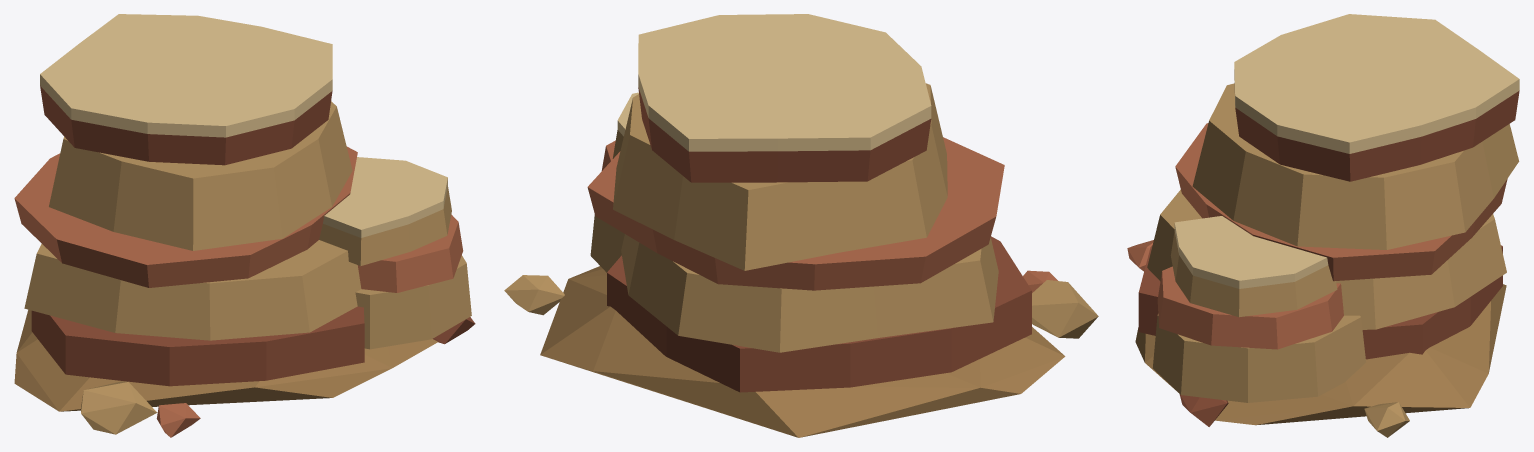
File: Desert_Mesa.fbx
3 renders of one model, left to right at view 1: azimuth 30°, elevation 25°; view 2: azimuth 150°, elevation 25°; view 3: azimuth 270°, elevation 25°, orthographic. The views are drawn at different scales.
Parts seen in each view (by area): view 1: Sand, Cap, Clay, Clay2, Talus; view 2: Sand, Cap, Clay, Talus, Clay2; view 3: Sand, Cap, Clay2, Clay, Talus.
Boxes of the visible parts, x1,y1,x2,y2 form: Sand: (24,101,471,434); Cap: (40,14,447,237); Clay: (31,86,475,386); Clay2: (14,146,463,437); Talus: (14,309,437,411); Sand: (504,83,1098,352); Cap: (617,14,931,151); Clay: (607,87,1031,392); Talus: (540,266,1065,437); Clay2: (587,137,1057,292); Sand: (1147,83,1519,437); Cap: (1174,14,1519,288); Clay2: (1127,123,1507,349); Clay: (1138,90,1519,426); Talus: (1135,284,1506,425).
Bounding box in the file's own units: 13.75 × 7.7 × 10.81.
